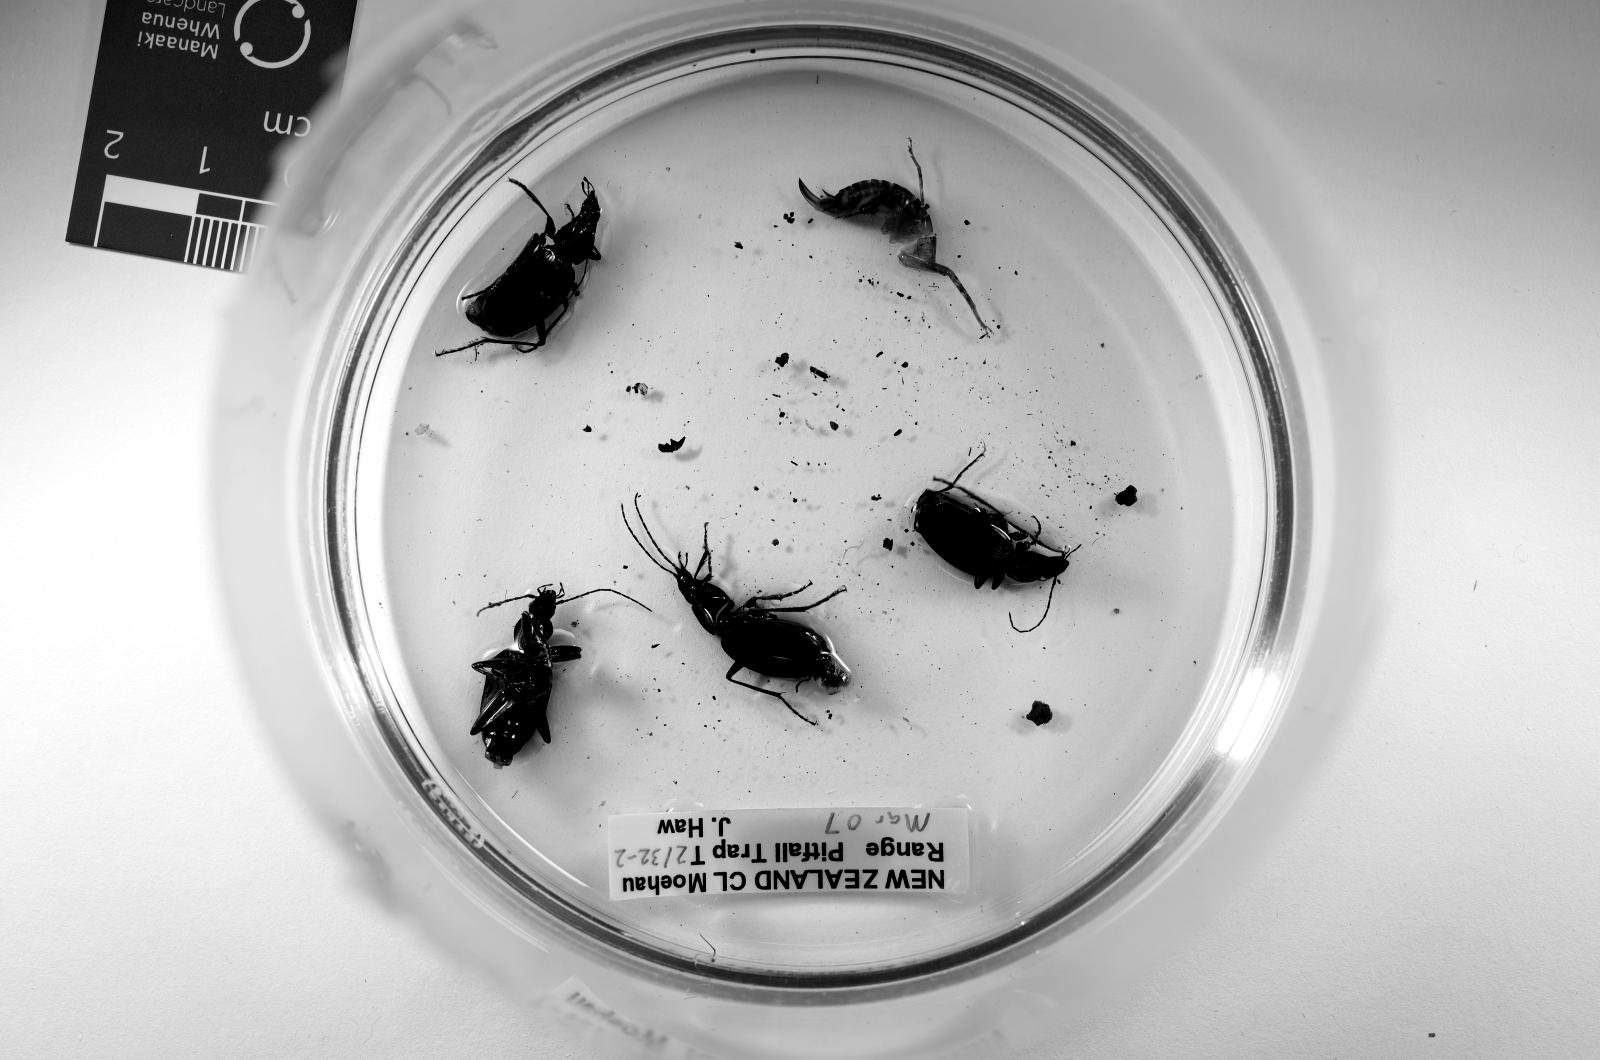carabidae: (634, 497, 850, 727), (462, 180, 600, 351), (472, 584, 581, 767), (912, 475, 1069, 590)
orthoptera: (800, 140, 991, 335)
